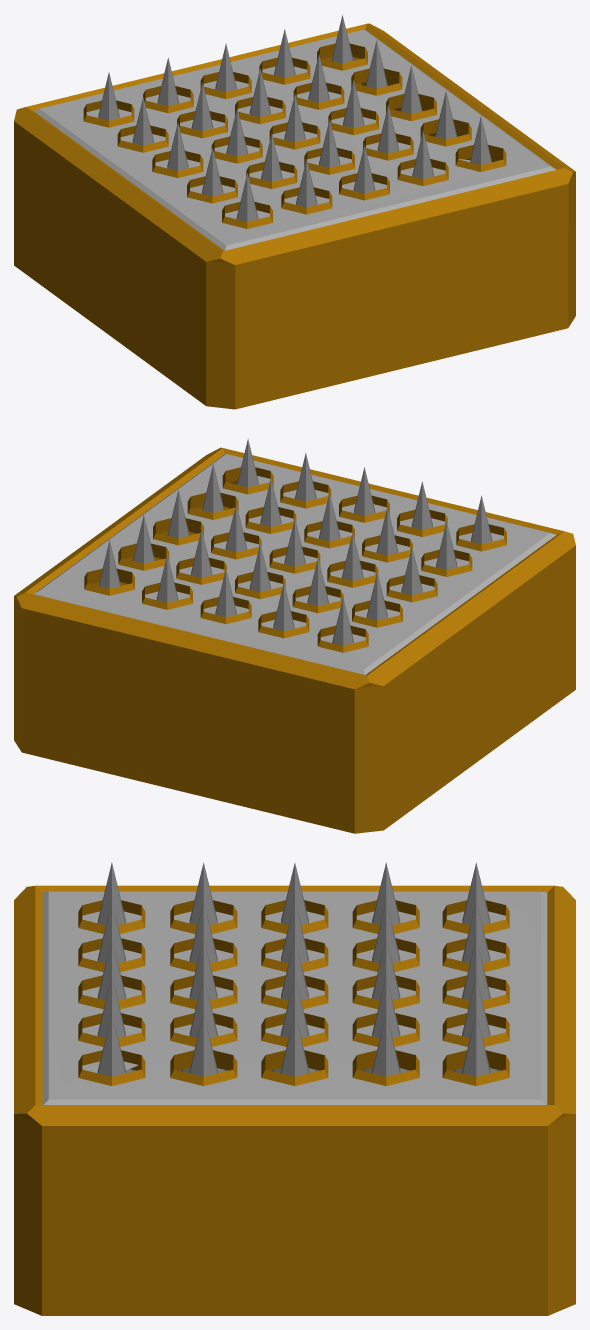
File: geo_spikes_base.fbx
The picture shows the model from 3 angles, top to bottom: view 1: azimuth 30°, elevation 25°; view 2: azimuth 150°, elevation 25°; view 3: azimuth 270°, elevation 25°; orthographic projection. The views are drawn at different scales.
Visible parts, largest first — view 1: geo_spikes_base, geo_mesh_cover, geo_spikes; view 2: geo_spikes_base, geo_mesh_cover, geo_spikes; view 3: geo_spikes_base, geo_mesh_cover, geo_spikes.
Part boxes in pixels (x1,y1,x2,y2): geo_spikes_base: [14, 23, 575, 409]; geo_mesh_cover: [33, 29, 556, 250]; geo_spikes: [98, 15, 491, 221]; geo_spikes_base: [14, 447, 575, 833]; geo_mesh_cover: [33, 454, 556, 674]; geo_spikes: [98, 438, 492, 645]; geo_spikes_base: [14, 885, 575, 1315]; geo_mesh_cover: [42, 891, 547, 1104]; geo_spikes: [97, 862, 500, 1076].
Bounding box in the file's own units: 1.65 × 0.8435 × 1.65.
